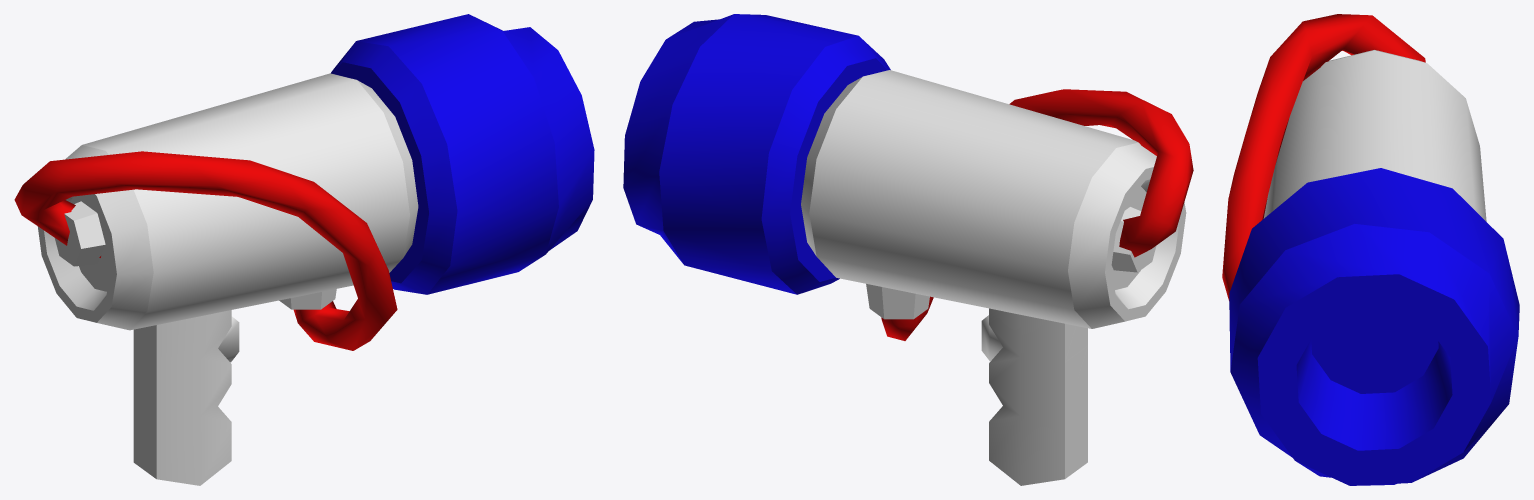
Rendered from MS_TheSucc.fbx.
3 views of the same model, side by side, from view 1: azimuth 30°, elevation 25°; view 2: azimuth 150°, elevation 25°; view 3: azimuth 270°, elevation 25° (orthographic). The views are drawn at different scales.
Parts seen in each view (by area): view 1: TheSuCC; view 2: TheSuCC; view 3: TheSuCC.
Boxes of the visible parts, x1,y1,x2,y2 form: TheSuCC: [14, 14, 594, 485]; TheSuCC: [623, 14, 1193, 485]; TheSuCC: [1222, 14, 1519, 485].
Size of the model in its own units: 69.98 by 49.03 by 32.12.
